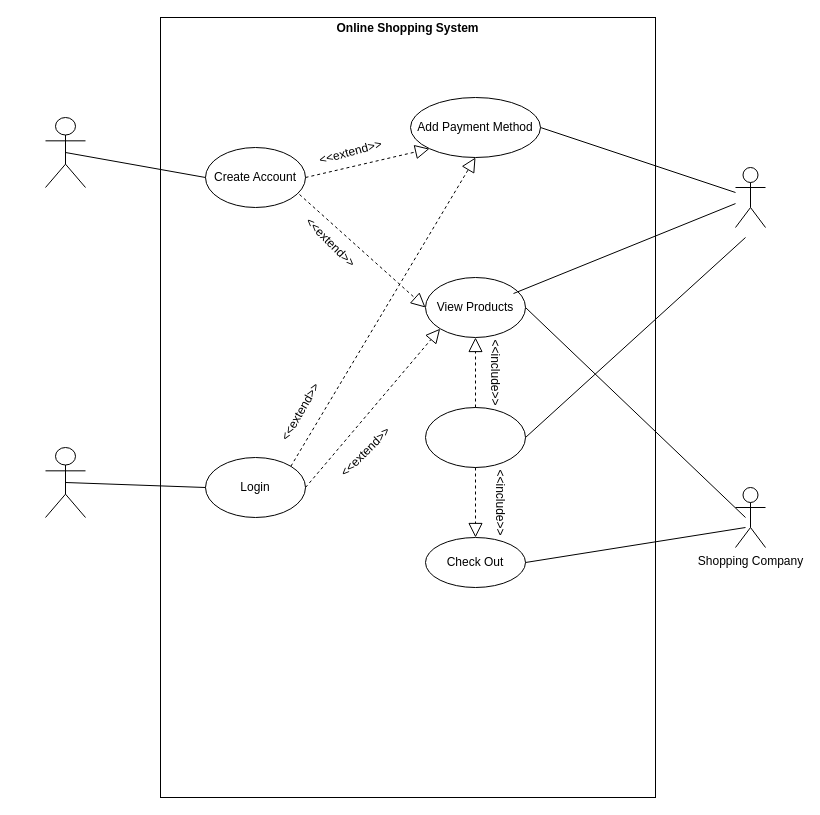
The diagram is 820 pixels wide and 815 high, and some of its shapes have lost their labels. Here are the shapes that lost their labels. From the top down, the centre of each, then its label:
the point at 65,152: New Customer
the point at 750,197: Administrator
the point at 475,437: Add Product to Cart
the point at 65,482: Existing Customer
